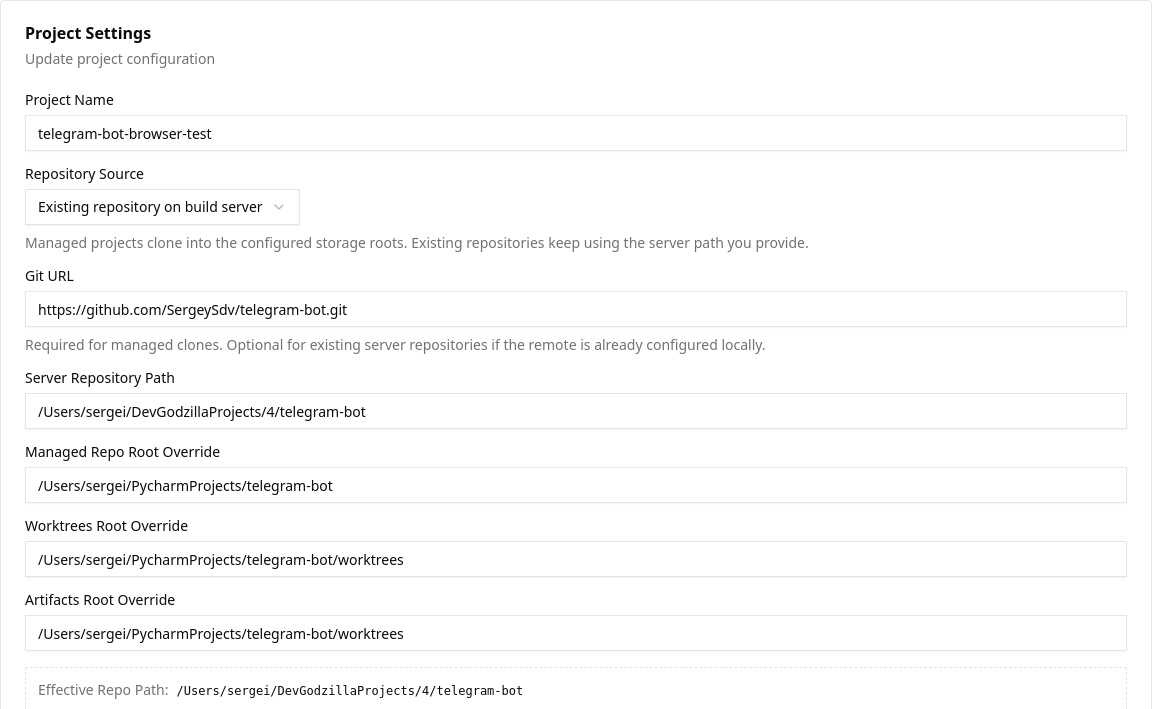
Test: SettingsTab storage preview › updates the effective repo path preview when the server repo path changes
This screenshot has width=1152, height=709.
Expected: the text "/Users/sergei/DevGodzillaProjects/4/telegram-bot" is shown, [176,684,523,698]
Replace the text in the field labelled "Server Repository Path" with "/Users/sergei/PycharmProjects/telegram-bot" at (576, 411), box [25,393,1127,429]
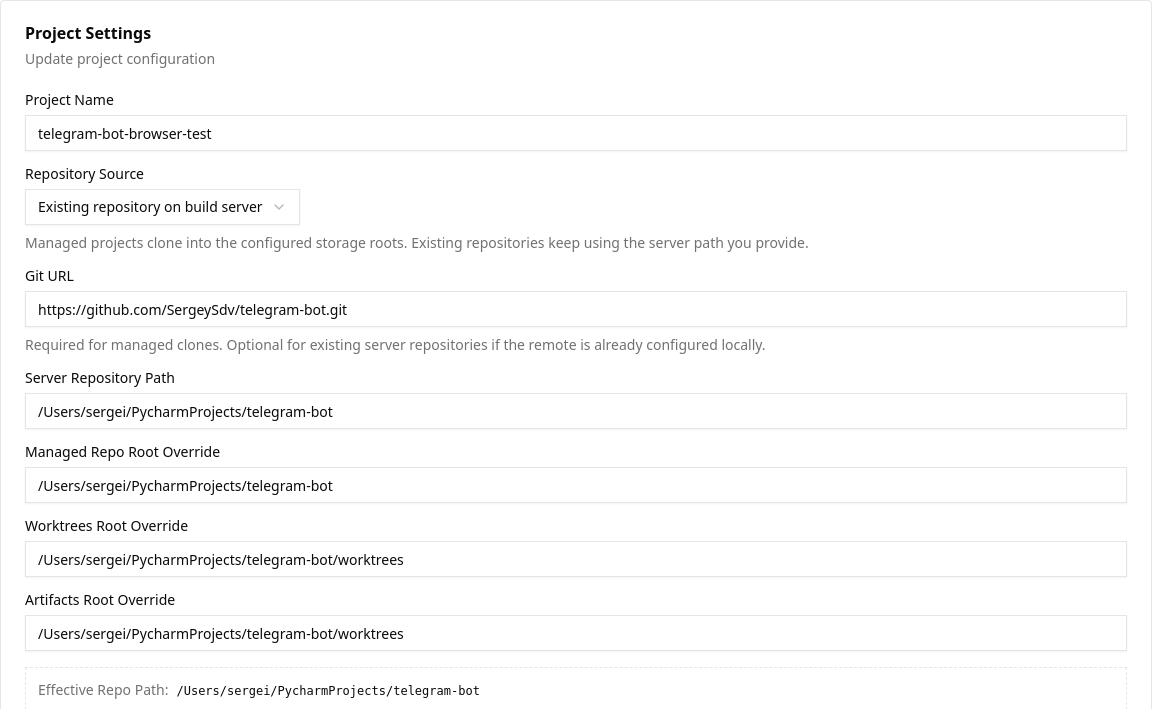
Expected: the text "/Users/sergei/PycharmProjects/telegram-bot" is shown, [176,684,480,698]
